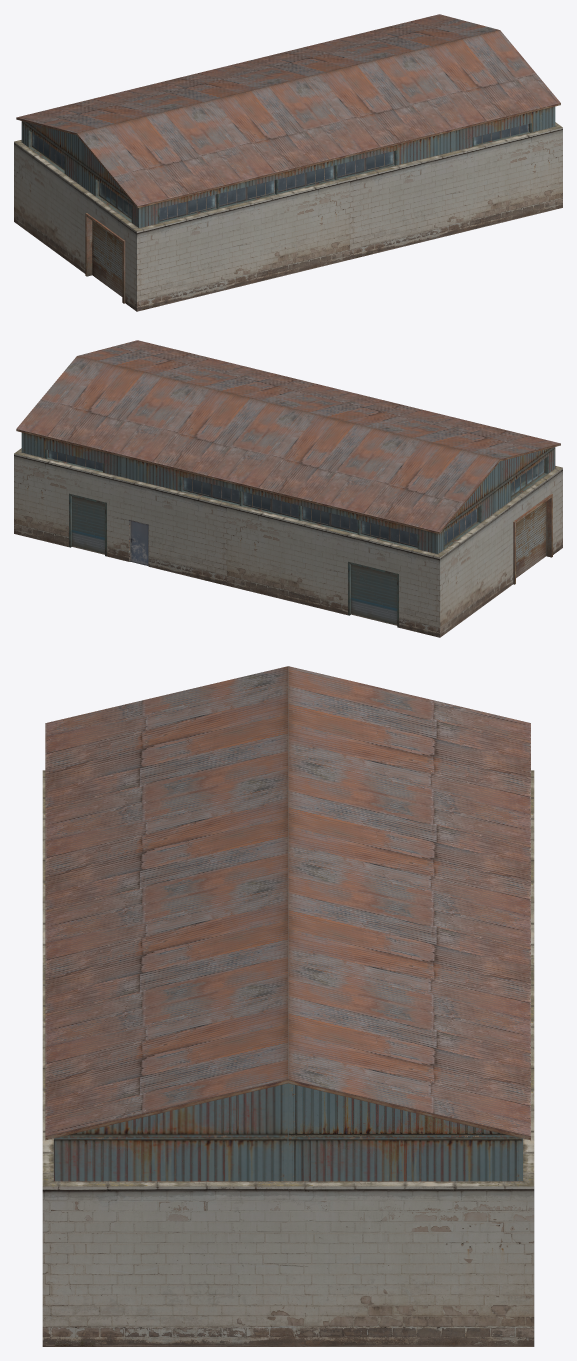
The model's file is Hangar_v5_8.FBX.
The picture shows the model from 3 angles, top to bottom: view 1: azimuth 30°, elevation 25°; view 2: azimuth 150°, elevation 25°; view 3: azimuth 270°, elevation 25°; orthographic projection. The views are drawn at different scales.
Parts seen in each view (by area): view 1: Hangar_v5_8, Hangar_v5_8_inside, Hangar_v5_8_door4; view 2: Hangar_v5_8, Hangar_v5_8_inside, Hangar_v5_8_door3, Hangar_v5_8_door4, Hangar_v5_8_door1, Hangar_v5_8_door2; view 3: Hangar_v5_8.
Boxes of the visible parts, x1,y1,x2,y2 form: Hangar_v5_8: (14,14,562,311); Hangar_v5_8_inside: (32,124,528,221); Hangar_v5_8_door4: (92,221,122,296); Hangar_v5_8: (14,340,562,637); Hangar_v5_8_inside: (48,450,543,547); Hangar_v5_8_door3: (351,564,397,625); Hangar_v5_8_door4: (516,502,546,577); Hangar_v5_8_door1: (72,496,104,554); Hangar_v5_8_door2: (130,521,147,565); Hangar_v5_8: (42,666,534,1346).
Bounding box in the file's own units: 26.59 × 7.91 × 13.23.
